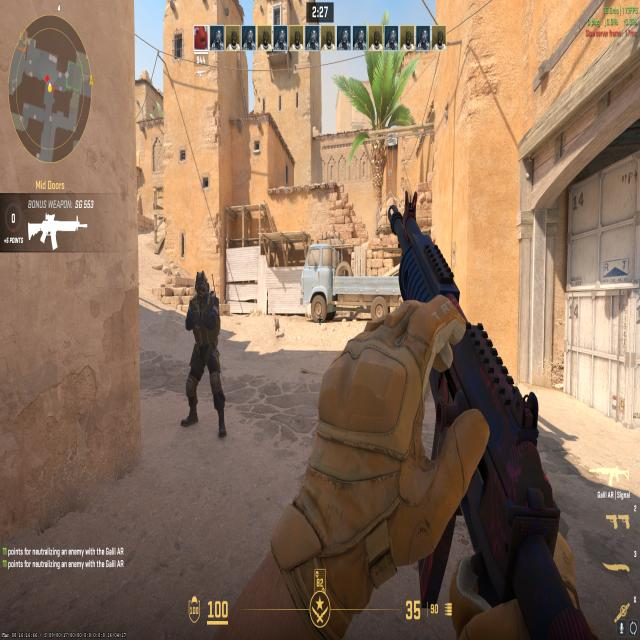ct: (168, 254, 238, 459)
